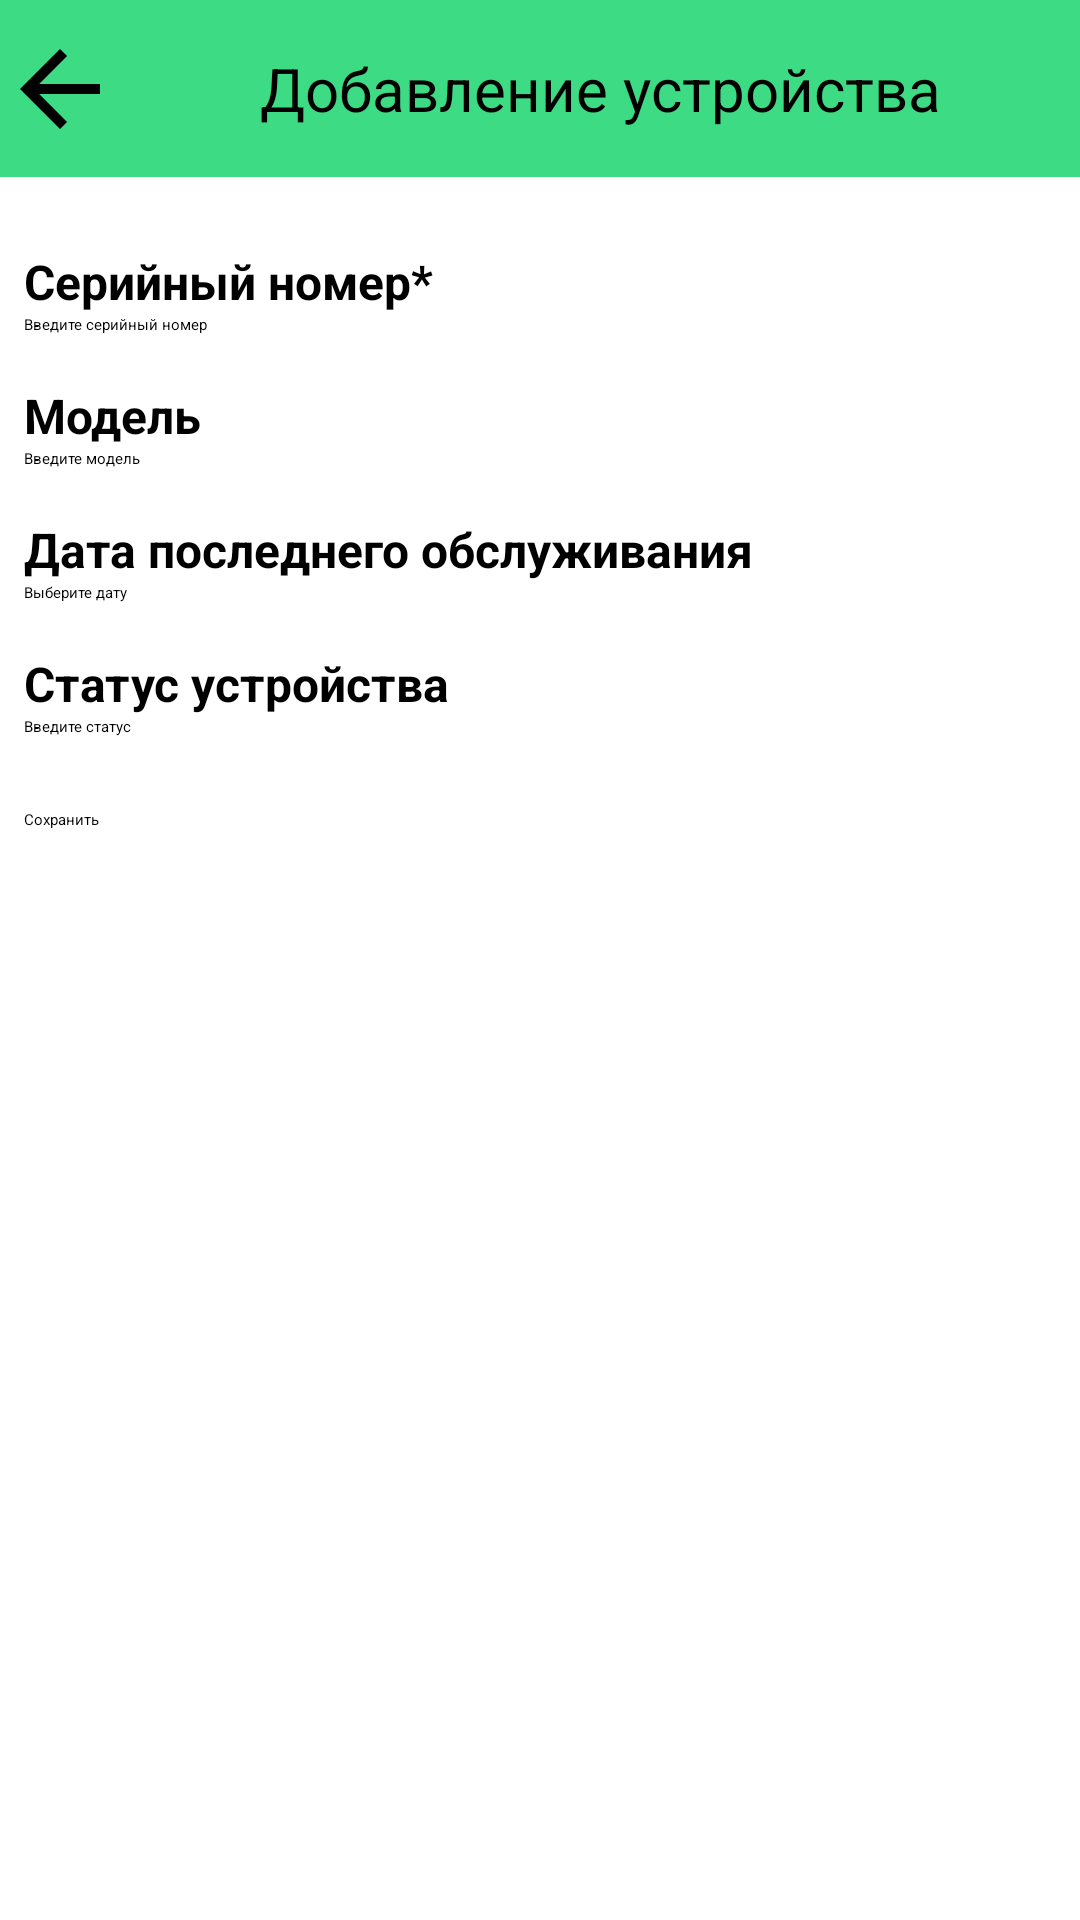

Named icons in this screenshot (1080 x 1920) and their centers, (x=x, y=y):
Назад: (x=60, y=89)
